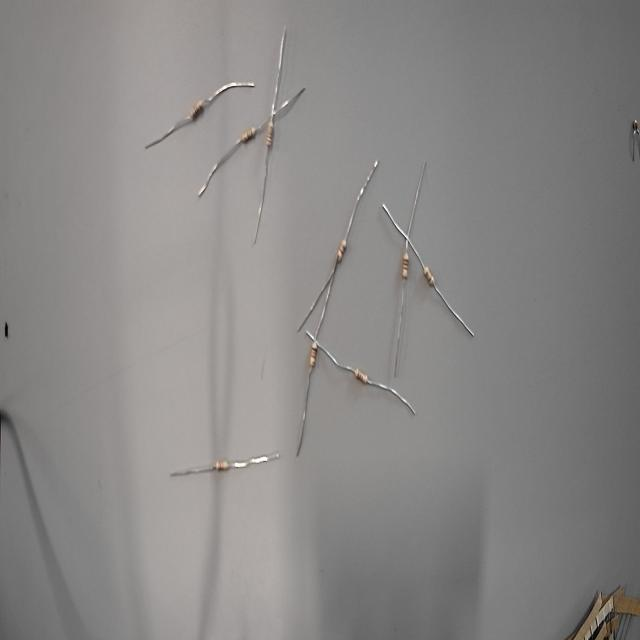resistor: (178, 81, 214, 133), (256, 109, 287, 160), (389, 235, 417, 291), (415, 252, 444, 299), (302, 325, 326, 381), (347, 352, 375, 398), (207, 446, 236, 488), (330, 222, 354, 272), (236, 114, 260, 158)
